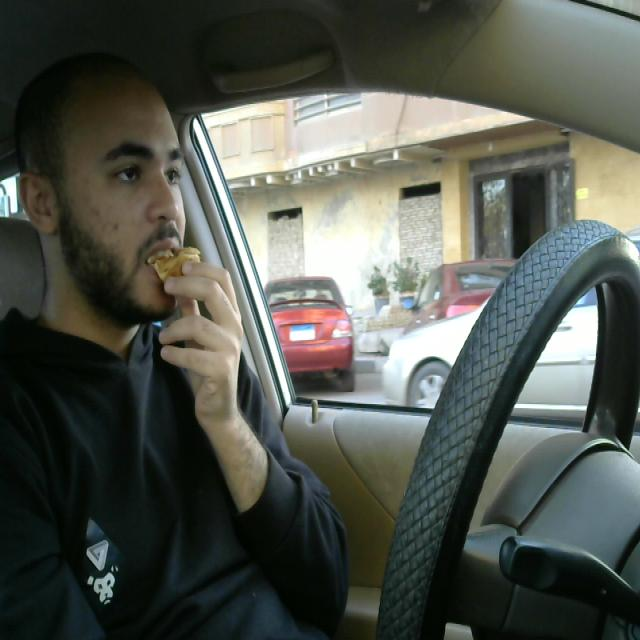eating: (136, 236, 213, 296)
